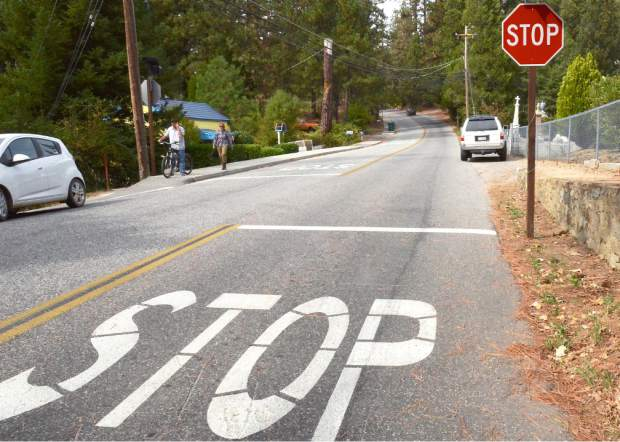stop: (498, 1, 568, 68)
